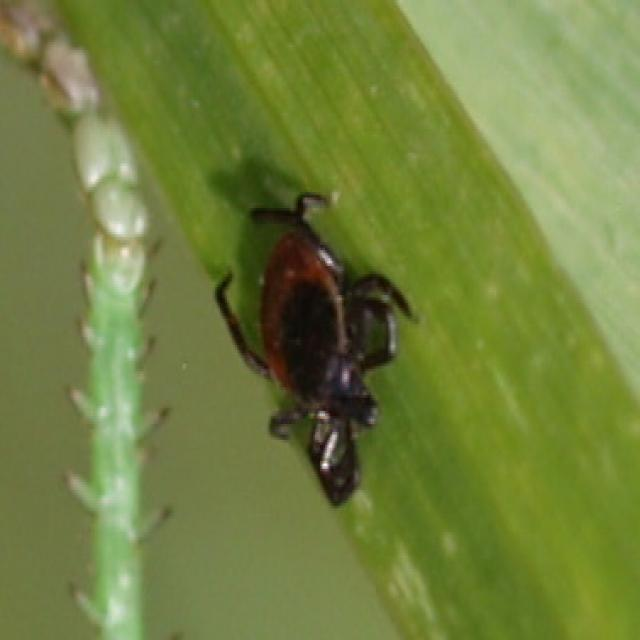Ixodes Ricinus-F: (217, 192, 418, 506)
